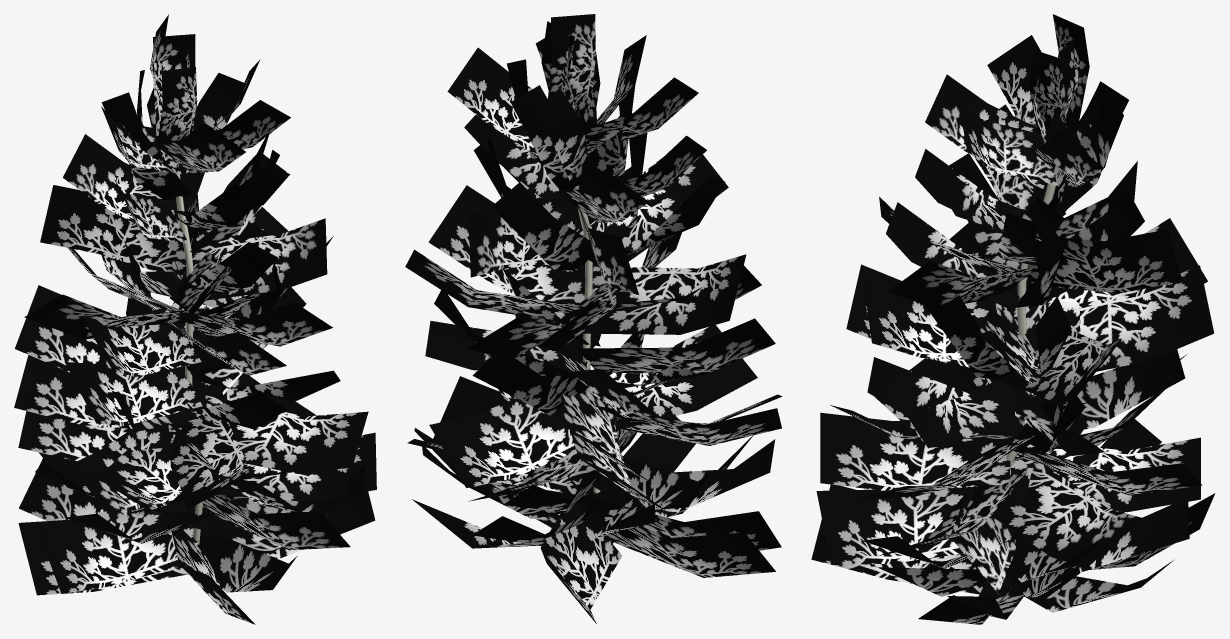
The model's file is SM_Plant_05.glb.
3 views of the same model, side by side, from view 1: azimuth 30°, elevation 25°; view 2: azimuth 150°, elevation 25°; view 3: azimuth 270°, elevation 25° (orthographic). The views are drawn at different scales.
Parts seen in each view (by area): view 1: SM_Plant_05; view 2: SM_Plant_05; view 3: SM_Plant_05.
Boxes of the visible parts, left/top/right/bottom form: SM_Plant_05: left=14, top=14, right=376, bottom=624; SM_Plant_05: left=405, top=14, right=782, bottom=623; SM_Plant_05: left=811, top=14, right=1215, bottom=624.
Size of the model in its own units: 2.02 by 3.21 by 2.04.
2 materials, 1 textured.
